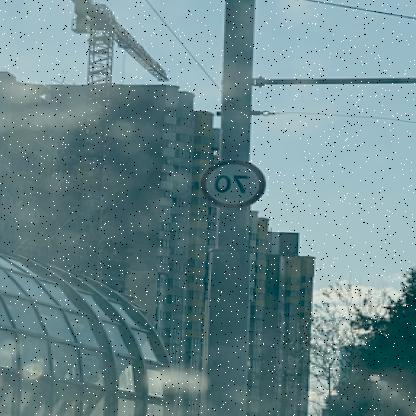speedlimit: (202, 160, 268, 209)
